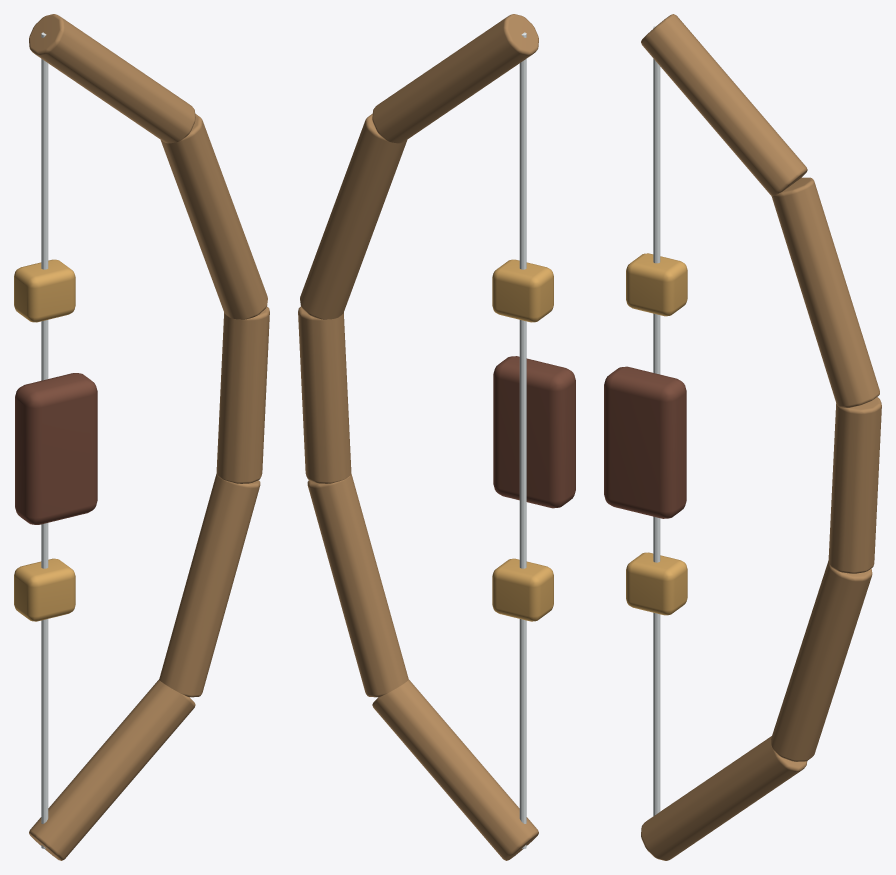
File: fitted_bow.glb
The picture shows the model from 3 angles, left to right: view 1: azimuth 30°, elevation 25°; view 2: azimuth 150°, elevation 25°; view 3: azimuth 330°, elevation 25°; orthographic projection.
Visible parts, largest first — view 1: Bow | leather grip, Bow | carved limb.001, Bow | carved limb, Bow | carved limb.003, Bow | carved limb.004, Bow | carved limb.002, Bow | taut string, Bow | upper ferrule, Bow | lower ferrule; view 2: Bow | leather grip, Bow | carved limb.001, Bow | carved limb, Bow | carved limb.003, Bow | carved limb.004, Bow | carved limb.002, Bow | taut string, Bow | upper ferrule, Bow | lower ferrule; view 3: Bow | leather grip, Bow | carved limb.003, Bow | carved limb.004, Bow | carved limb.001, Bow | carved limb.002, Bow | carved limb, Bow | taut string, Bow | lower ferrule, Bow | upper ferrule.
Boxes of the visible parts, x1,y1,x2,y2 form: Bow | leather grip: [15, 373, 97, 524]; Bow | carved limb.001: [159, 473, 260, 697]; Bow | carved limb: [29, 679, 195, 860]; Bow | carved limb.003: [160, 114, 267, 319]; Bow | carved limb.004: [29, 14, 195, 143]; Bow | carved limb.002: [216, 306, 269, 483]; Bow | taut string: [41, 32, 48, 848]; Bow | upper ferrule: [14, 259, 75, 322]; Bow | lower ferrule: [14, 558, 75, 621]; Bow | leather grip: [493, 356, 575, 508]; Bow | carved limb.001: [307, 473, 408, 697]; Bow | carved limb: [372, 679, 538, 860]; Bow | carved limb.003: [300, 114, 407, 319]; Bow | carved limb.004: [372, 14, 538, 143]; Bow | carved limb.002: [298, 306, 351, 483]; Bow | taut string: [519, 32, 526, 848]; Bow | upper ferrule: [492, 259, 553, 322]; Bow | lower ferrule: [492, 558, 553, 621]; Bow | leather grip: [604, 366, 686, 518]; Bow | carved limb.003: [771, 177, 879, 407]; Bow | carved limb.004: [641, 14, 807, 196]; Bow | carved limb.001: [771, 560, 872, 761]; Bow | carved limb.002: [828, 397, 881, 573]; Bow | carved limb: [641, 736, 807, 860]; Bow | taut string: [653, 26, 660, 816]; Bow | lower ferrule: [626, 552, 687, 615]; Bow | upper ferrule: [626, 253, 687, 316].
Size of the model in its own units: 0.3245 by 1.01 by 0.0727.
